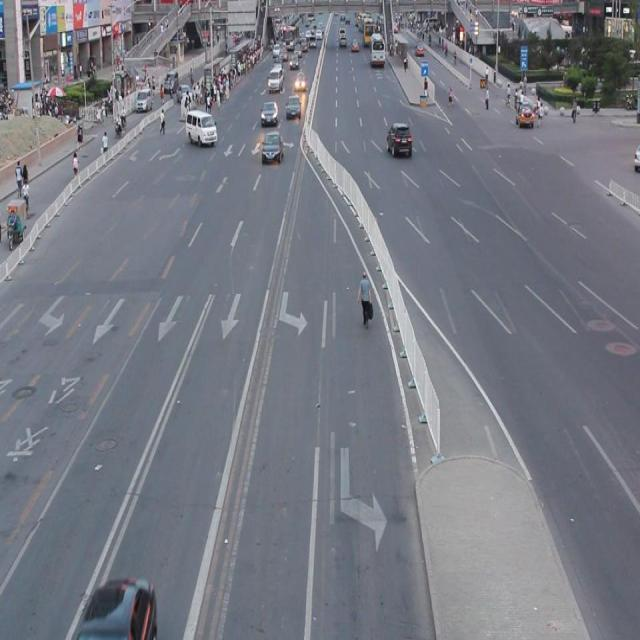car: (74, 576, 158, 640)
